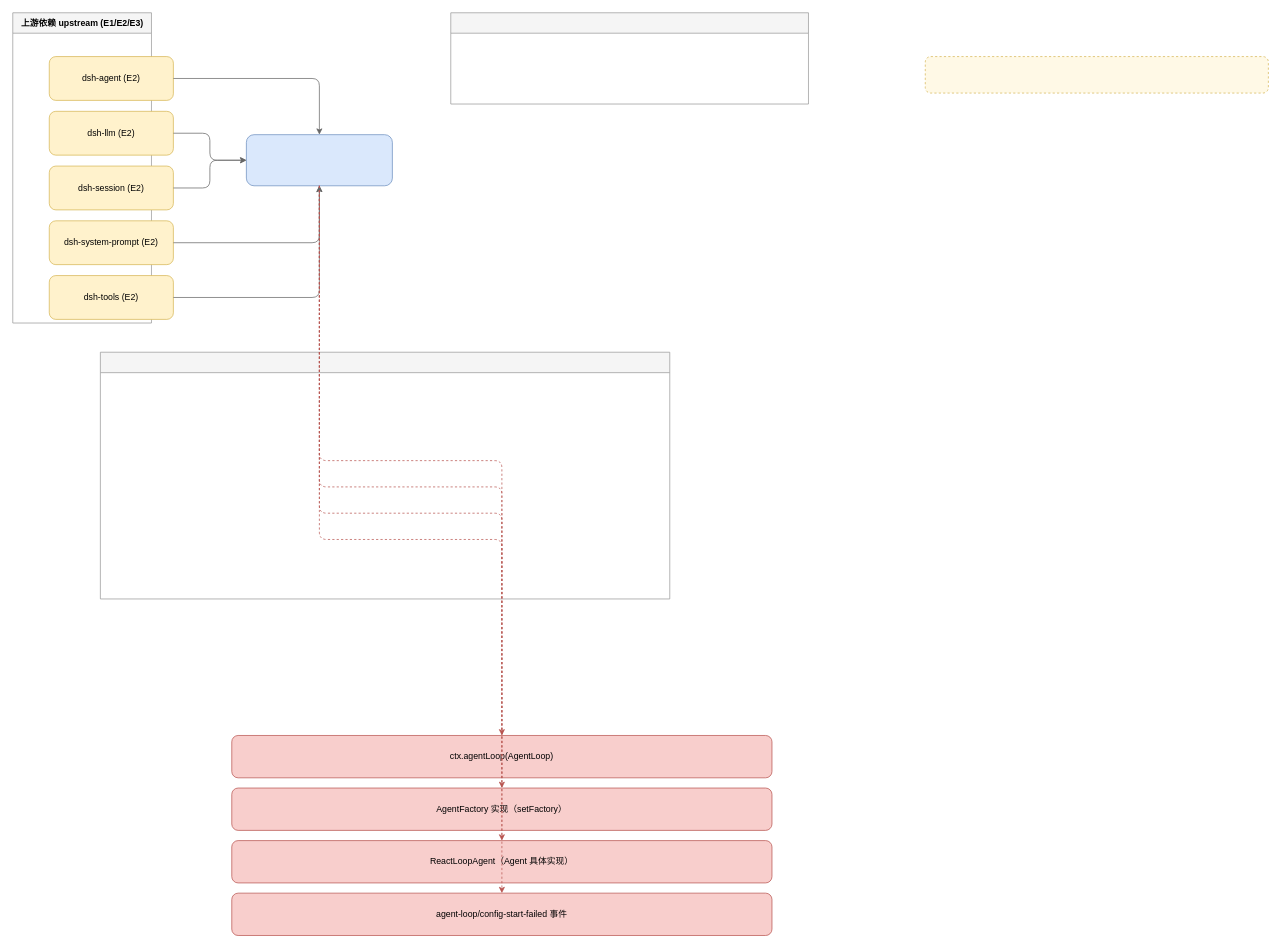
Image size: 1281x948. Some labels were removed from this diagram. Here are the shapes that lost their labels. From the top down, the centre of each, then its label:
pixel 629 58: 下游被依赖 dependents
pixel 1096 74: (无被依赖)
pixel 319 160: @deepseek-ai/dsh-agent-loop
pixel 385 475: 提供服务 provides（关键项）
